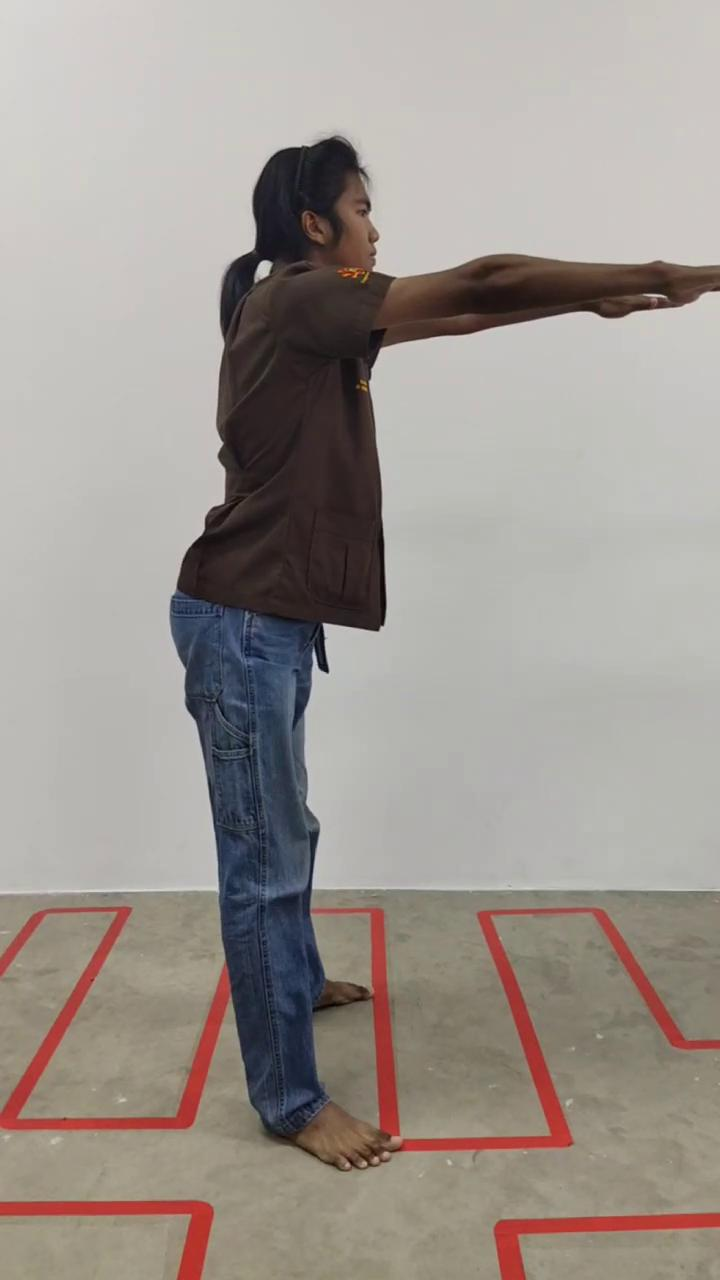squat up: (173, 136, 720, 1177)
